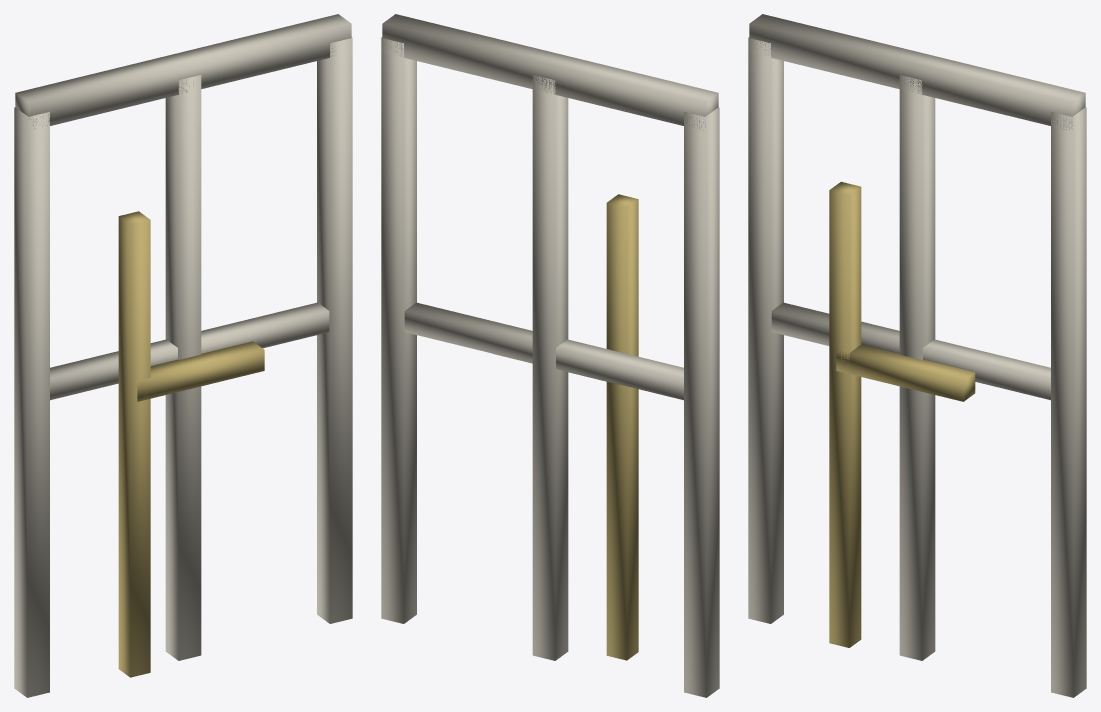
Rendered from civic_gate_l60_h110.glb.
3 renders of one model, left to right at view 1: azimuth 30°, elevation 25°; view 2: azimuth 150°, elevation 25°; view 3: azimuth 330°, elevation 25°, orthographic.
Parts seen in each view (by area): view 1: world; view 2: world; view 3: world.
Boxes of the visible parts, left/top/right/bottom form: world: left=14, top=14, right=352, bottom=697; world: left=381, top=14, right=719, bottom=697; world: left=748, top=14, right=1086, bottom=697.
Size of the model in its own units: 0.645 by 1.13 by 0.0825.
